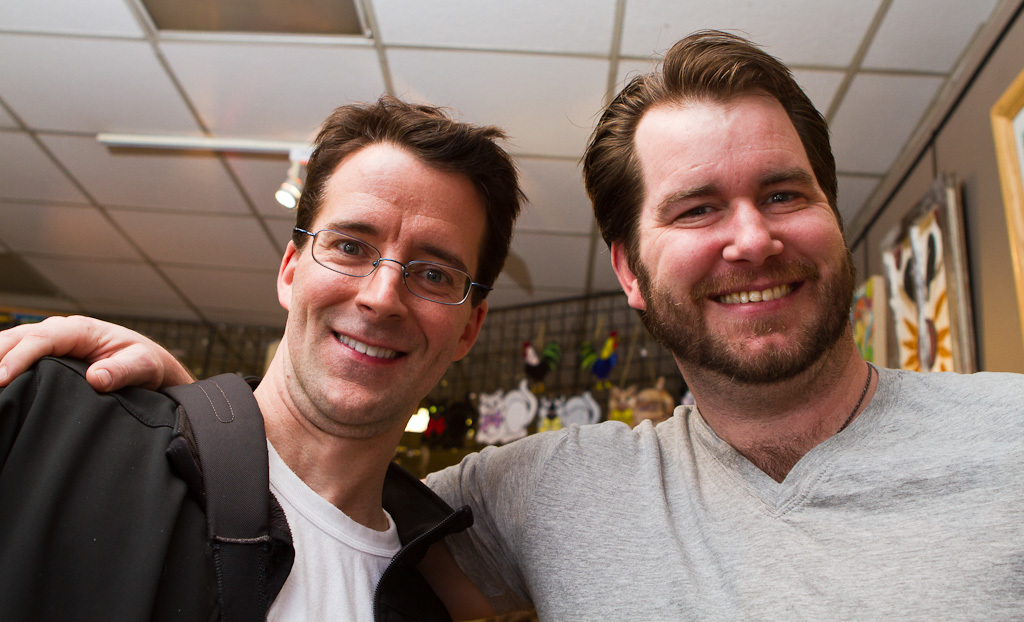Human_hand: (0, 314, 174, 397)
